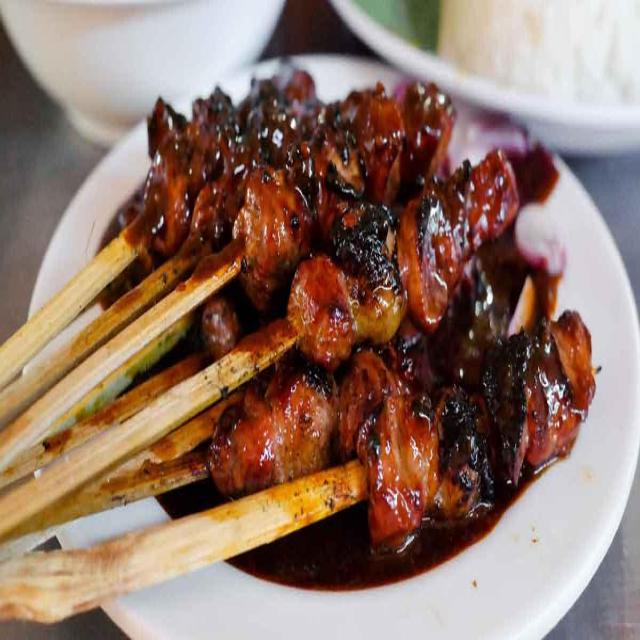Sate: (0, 68, 614, 610)
